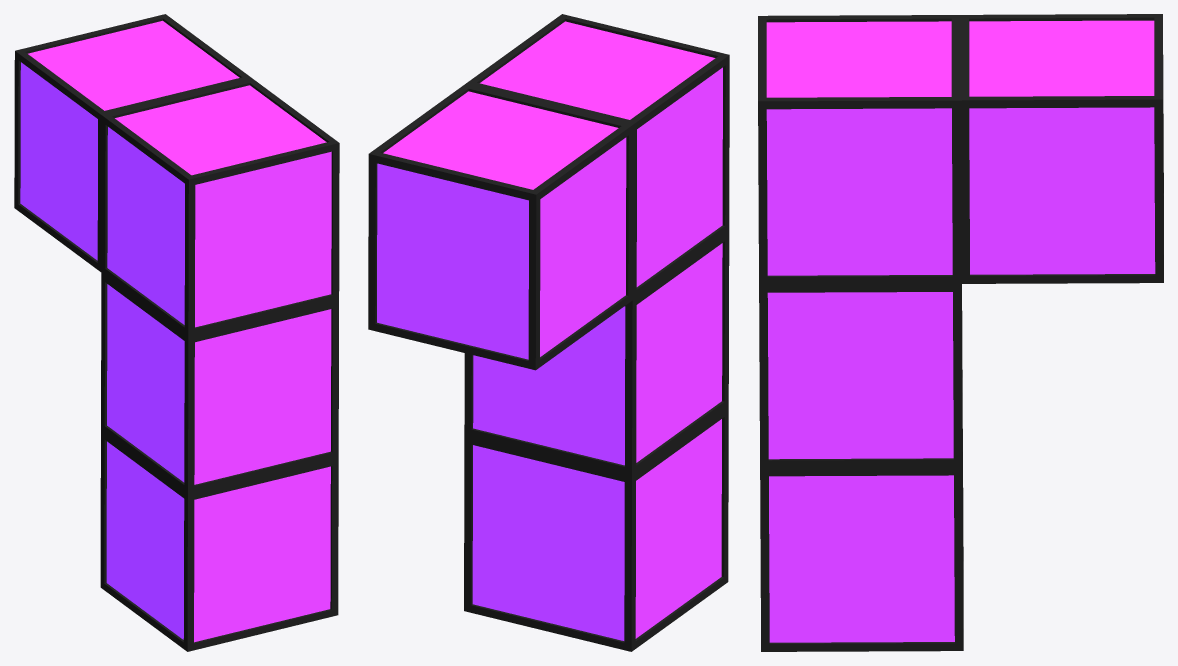
File: blue_ricky.fbx
3 views of the same model, side by side, from view 1: azimuth 30°, elevation 25°; view 2: azimuth 150°, elevation 25°; view 3: azimuth 270°, elevation 25° (orthographic). The views are drawn at different scales.
Visible parts, largest first — view 1: Blue Ricky; view 2: Blue Ricky; view 3: Blue Ricky.
Part boxes in pixels (x1,y1,x2,y2): Blue Ricky: [14, 14, 339, 651]; Blue Ricky: [368, 14, 729, 651]; Blue Ricky: [758, 14, 1163, 651].
Size of the model in its own units: 39.44 by 119 by 79.08.
